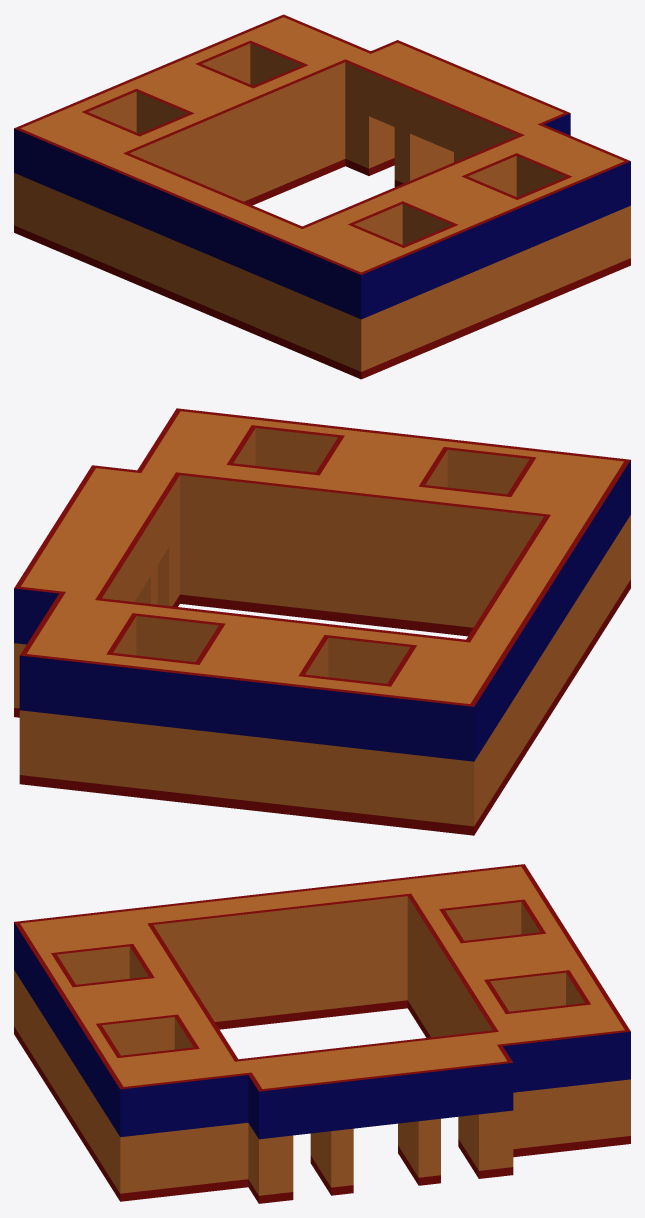
Rendered from SchoolMain 1.fbx.
The picture shows the model from 3 angles, top to bottom: view 1: azimuth 30°, elevation 25°; view 2: azimuth 150°, elevation 25°; view 3: azimuth 270°, elevation 25°; orthographic projection. The views are drawn at different scales.
Visible parts, largest first — view 1: SchoolMain; view 2: SchoolMain; view 3: SchoolMain.
Boxes of the visible parts, x1,y1,x2,y2 form: SchoolMain: (14, 14, 630, 379); SchoolMain: (14, 408, 630, 835); SchoolMain: (14, 864, 630, 1203).
Bounding box in the file's own units: 260 × 59.77 × 298.
